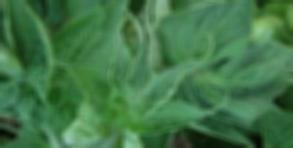Tomato leaf mosaic virus: (48, 0, 140, 105), (157, 0, 269, 81), (134, 38, 214, 121), (123, 95, 227, 137)
